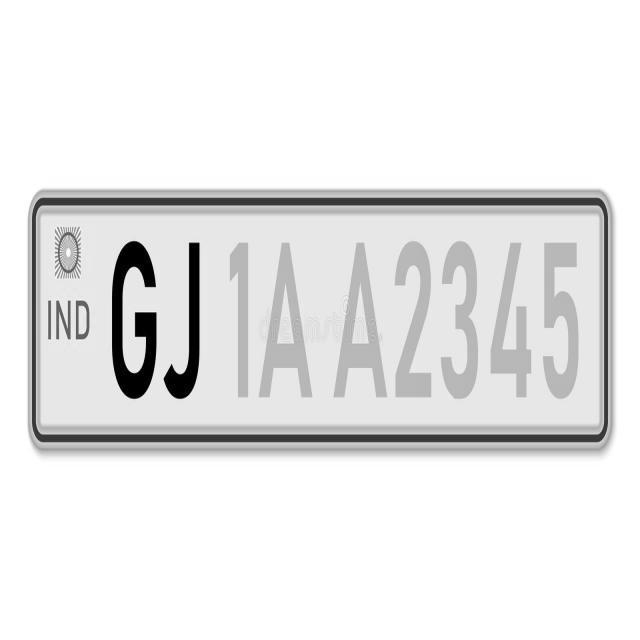License_Plate: (24, 188, 611, 449)
